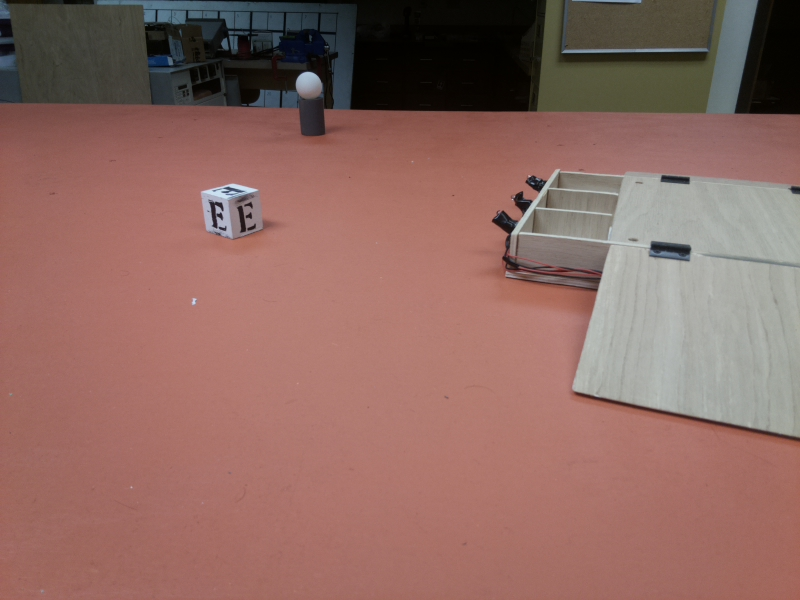blockE: (199, 183, 262, 240)
obstacle: (295, 71, 327, 138)
side: (490, 156, 623, 290)
slope: (569, 248, 800, 438), (622, 167, 798, 197)
